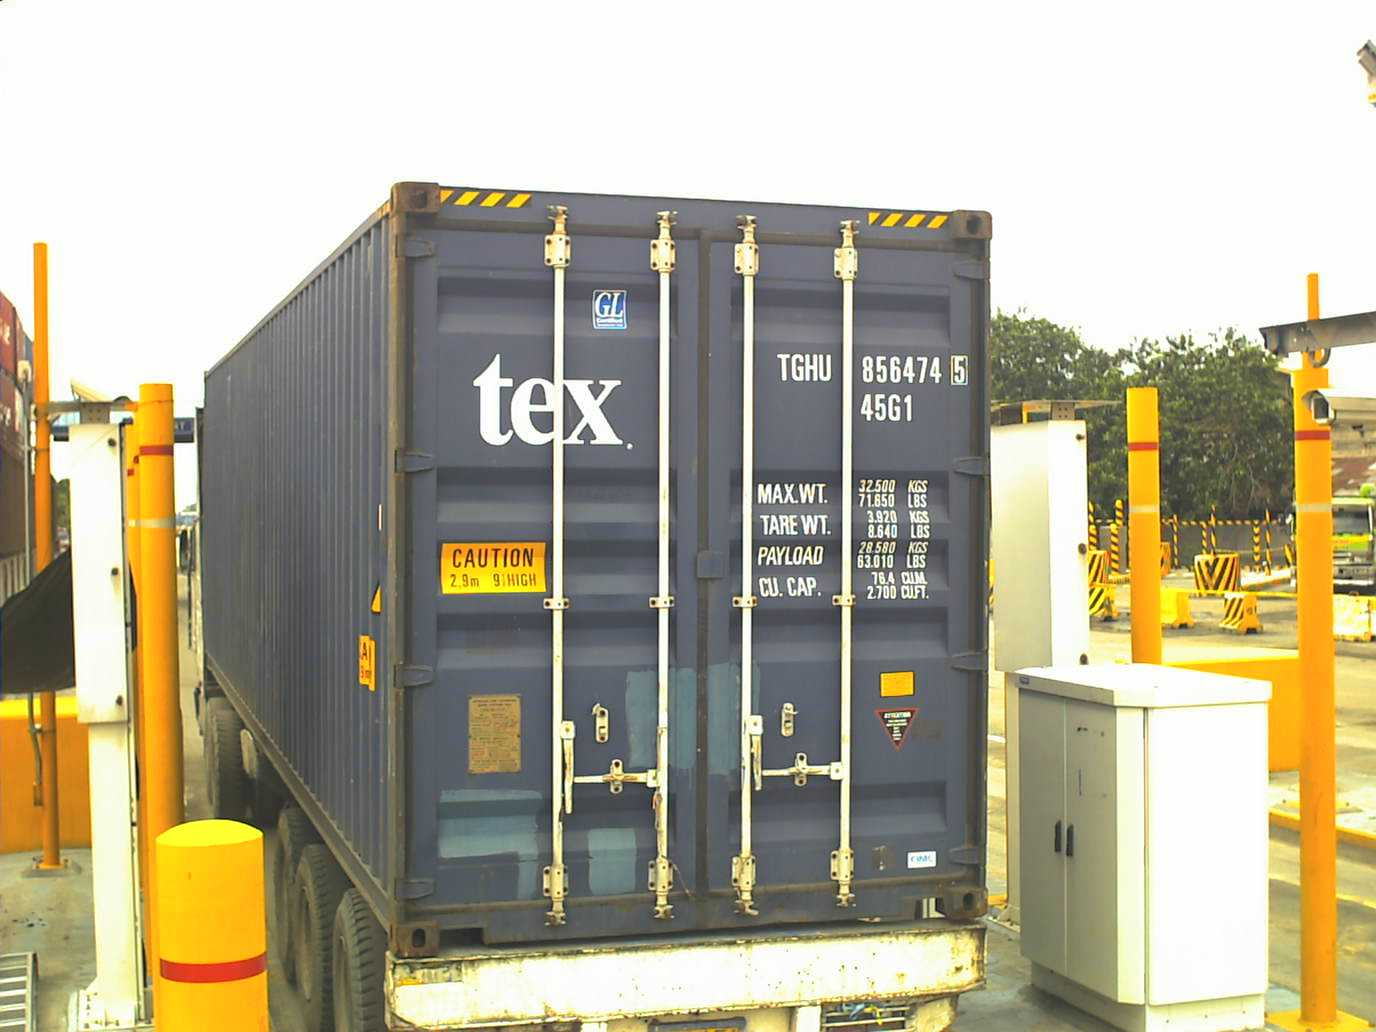container_door: (377, 175, 1002, 920)
